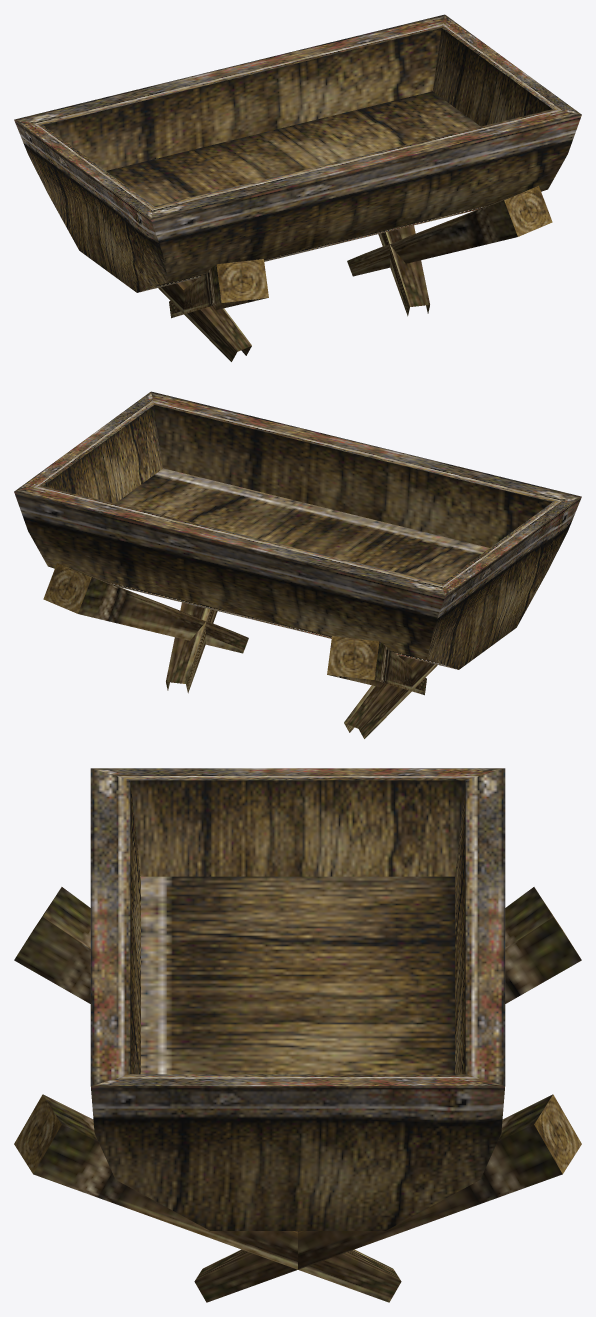
The picture shows the model from 3 angles, top to bottom: view 1: azimuth 30°, elevation 25°; view 2: azimuth 150°, elevation 25°; view 3: azimuth 270°, elevation 25°; orthographic projection. The views are drawn at different scales.
Visible parts, largest first — view 1: a29; view 2: a29; view 3: a29.
Part boxes in pixels (x1,y1,x2,y2): a29: (14, 14, 581, 361); a29: (14, 391, 581, 738); a29: (14, 768, 581, 1302).
Bounding box in the file's own units: 260 × 115 × 196.
1 material, 1 textured.
